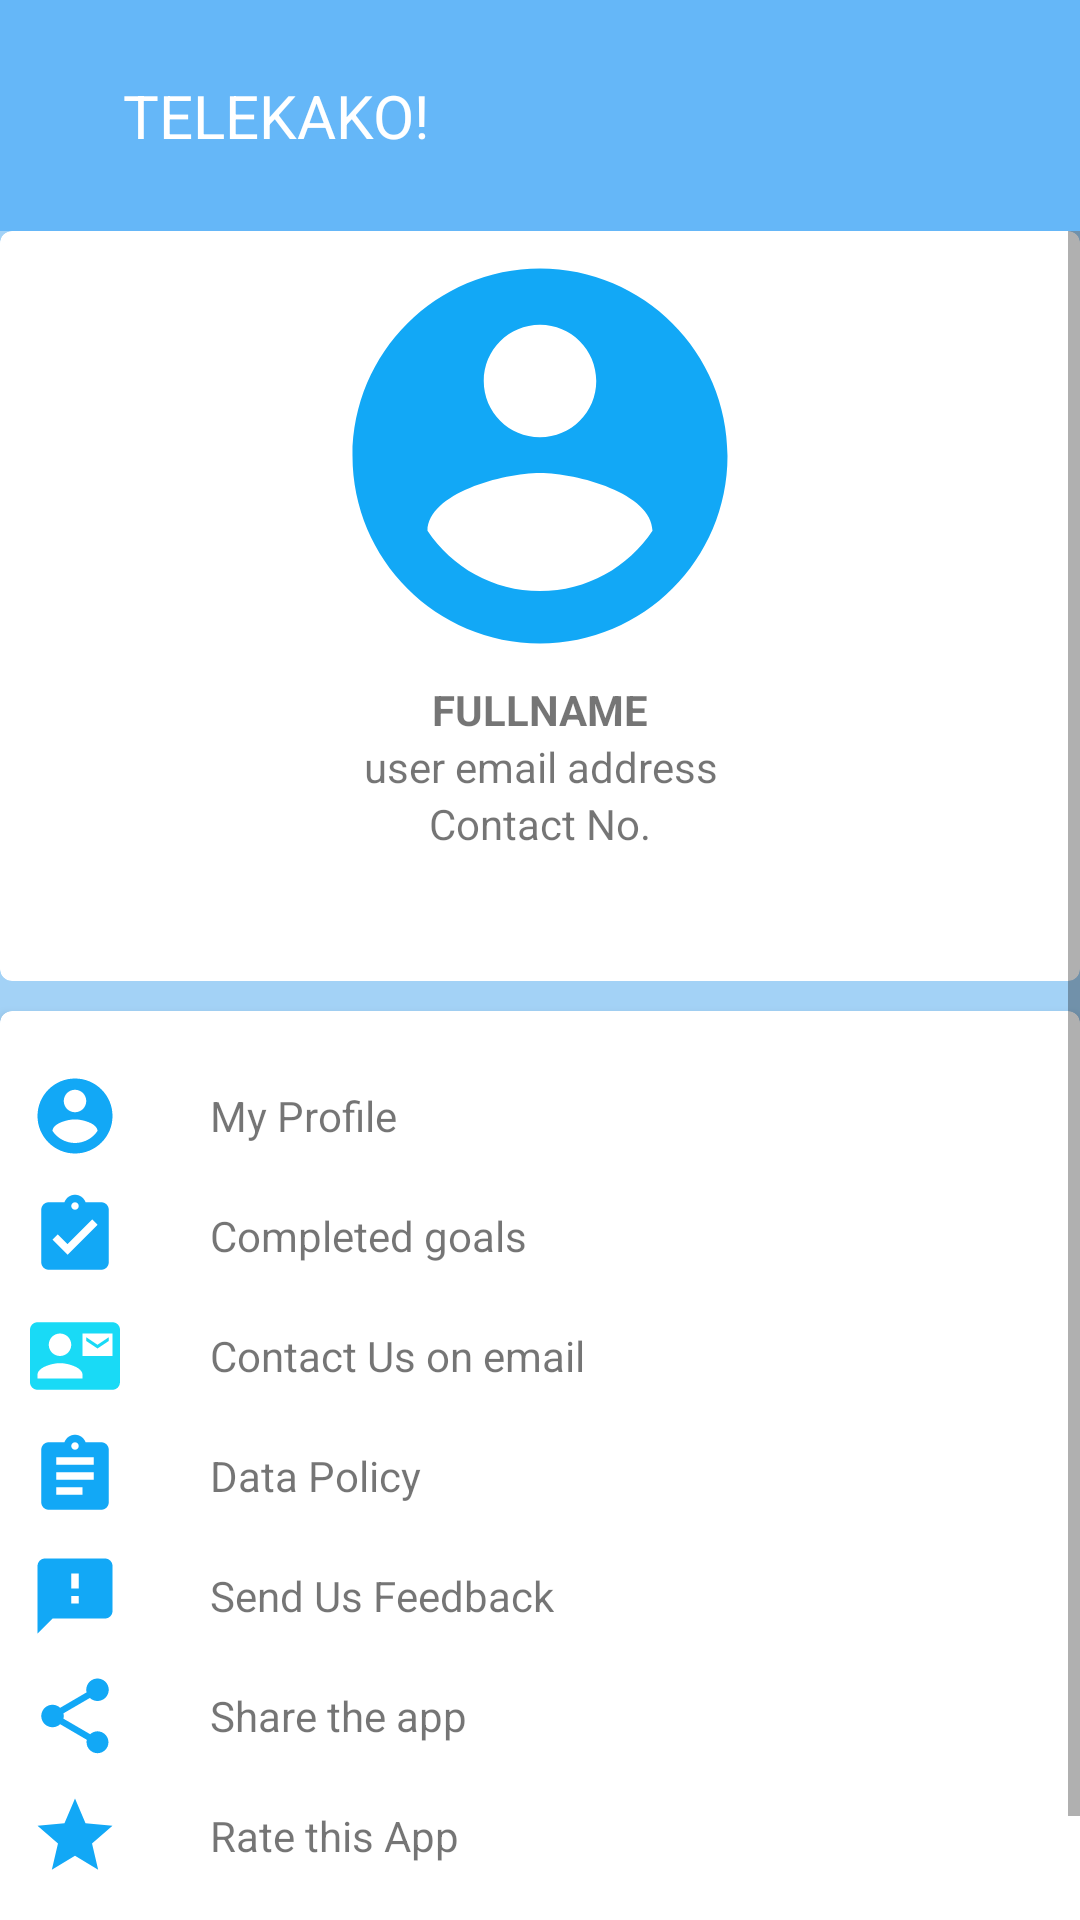

Screen size 1080×1920. Icon name, then its box in pixels as rect(x1, y1, x2, y2):
assignment: rect(41, 1194, 109, 1270), rect(41, 1434, 109, 1510)
contact mail: rect(30, 1322, 120, 1390)
star: rect(38, 1799, 112, 1870)
